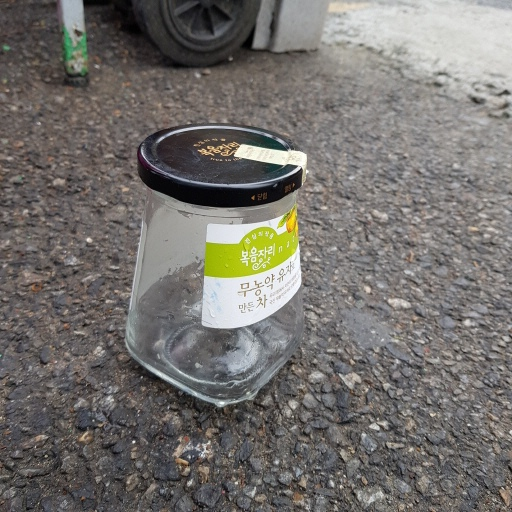Glass_5: (124, 116, 320, 410)
